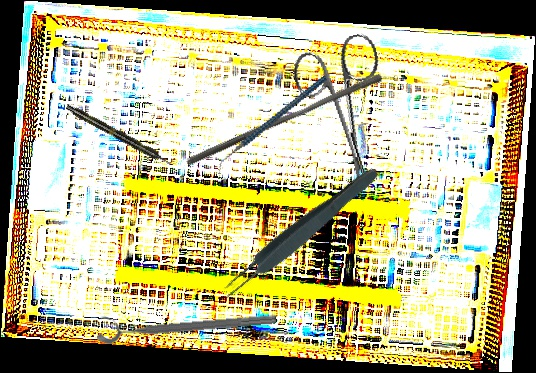Chopper: (199, 75, 345, 175)
Fixation Ring: (95, 300, 277, 345)
Handpiece: (64, 102, 174, 169)
Iris Scissors: (287, 30, 409, 200)
Pusher: (185, 66, 384, 174)
Tissue Forceps: (215, 161, 384, 304)
